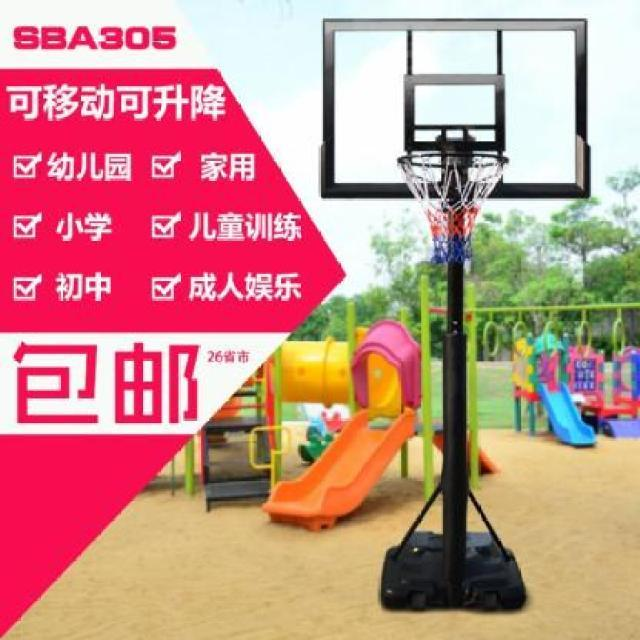rim: (396, 152, 512, 260)
